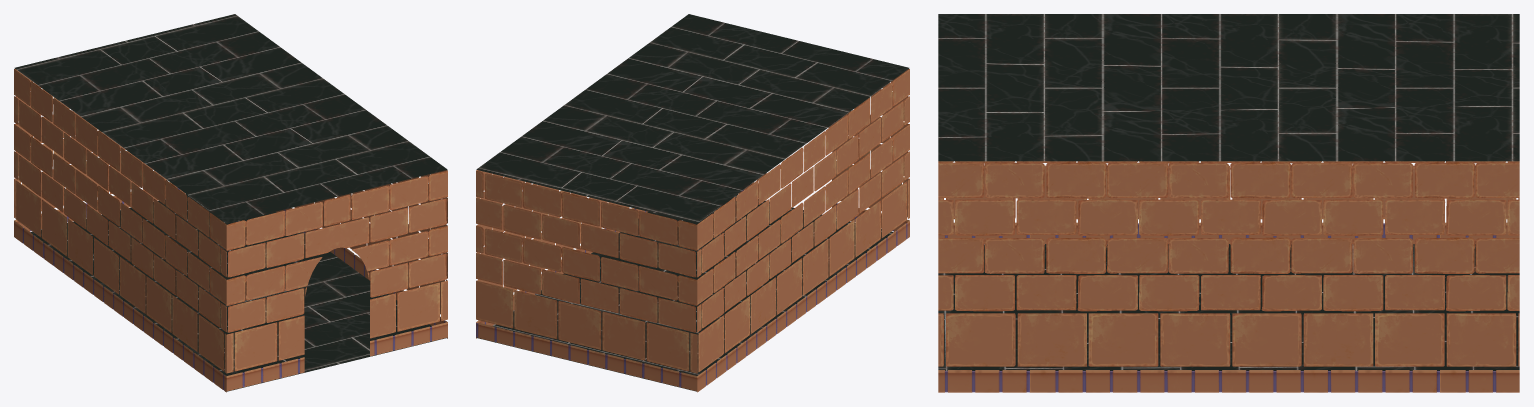
The model's file is SM_Coridor_002.fbx.
3 views of the same model, side by side, from view 1: azimuth 30°, elevation 25°; view 2: azimuth 150°, elevation 25°; view 3: azimuth 270°, elevation 25° (orthographic). The views are drawn at different scales.
Parts seen in each view (by area): view 1: SM_WallCoridor_002, SM_GroundCoridor_002; view 2: SM_WallCoridor_002, SM_GroundCoridor_002; view 3: SM_WallCoridor_002, SM_GroundCoridor_002.
Boxes of the visible parts, x1=… form: SM_WallCoridor_002: x1=14, y1=69, x2=447, y2=392; SM_GroundCoridor_002: x1=14, y1=14, x2=447, y2=391; SM_WallCoridor_002: x1=476, y1=69, x2=909, y2=392; SM_GroundCoridor_002: x1=476, y1=14, x2=909, y2=391; SM_WallCoridor_002: x1=938, y1=161, x2=1519, y2=392; SM_GroundCoridor_002: x1=938, y1=14, x2=1519, y2=370.
Bounding box in the file's own units: 600 × 439 × 1000.
